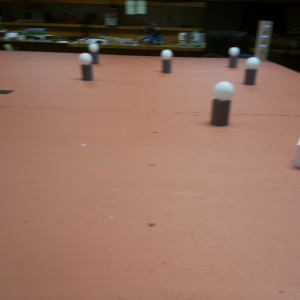corner: (256, 18, 272, 60)
obstacle: (210, 81, 232, 126), (78, 52, 95, 83), (245, 57, 259, 87), (161, 49, 174, 73), (228, 44, 239, 69), (89, 43, 100, 63)
